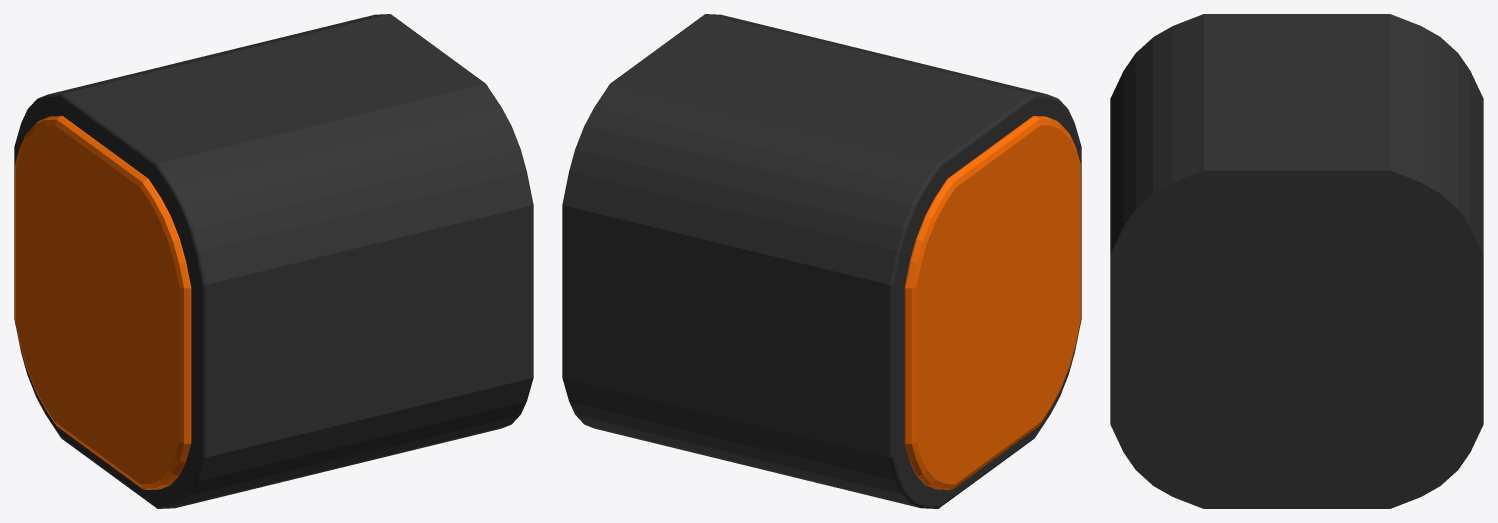
3 renders of one model, left to right at view 1: azimuth 30°, elevation 25°; view 2: azimuth 150°, elevation 25°; view 3: azimuth 270°, elevation 25°, orthographic. The views are drawn at different scales.
Visible parts, largest first — view 1: Cube.009, Cube.054; view 2: Cube.009, Cube.054; view 3: Cube.009.
Part boxes in pixels (x1,y1,x2,y2): Cube.009: (14,14,533,508); Cube.054: (15,116,191,489); Cube.009: (562,14,1081,508); Cube.054: (904,116,1080,489); Cube.009: (1110,14,1483,508).
Bounding box in the file's own units: 206 × 200 × 200.
